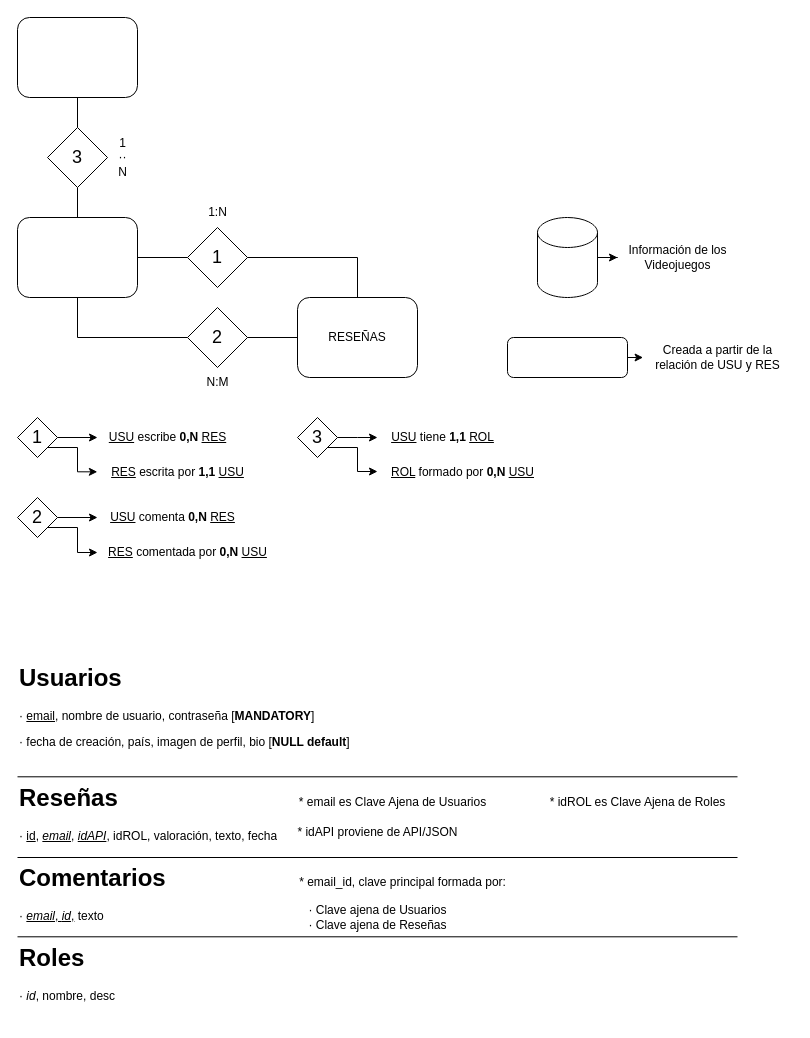
Some shapes in this 810 by 1038 pixel diagram are drawn without their labels. Here are the shapes that lost their labels. From the top down, the centre of each, then its label:
[77,57]: ROLES
[77,257]: USUARIOS
[567,257]: API
[567,357]: COMENTARIOS
